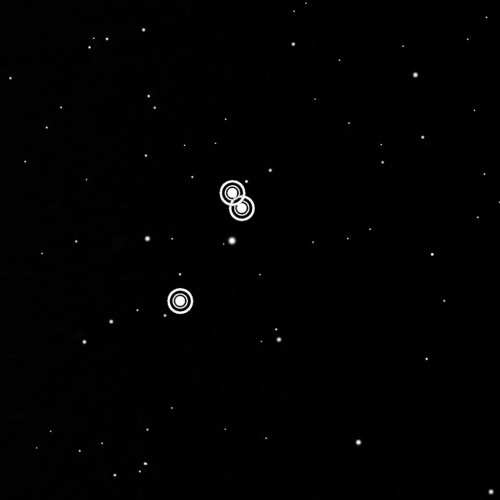canis_minor: (165, 174, 262, 317)
